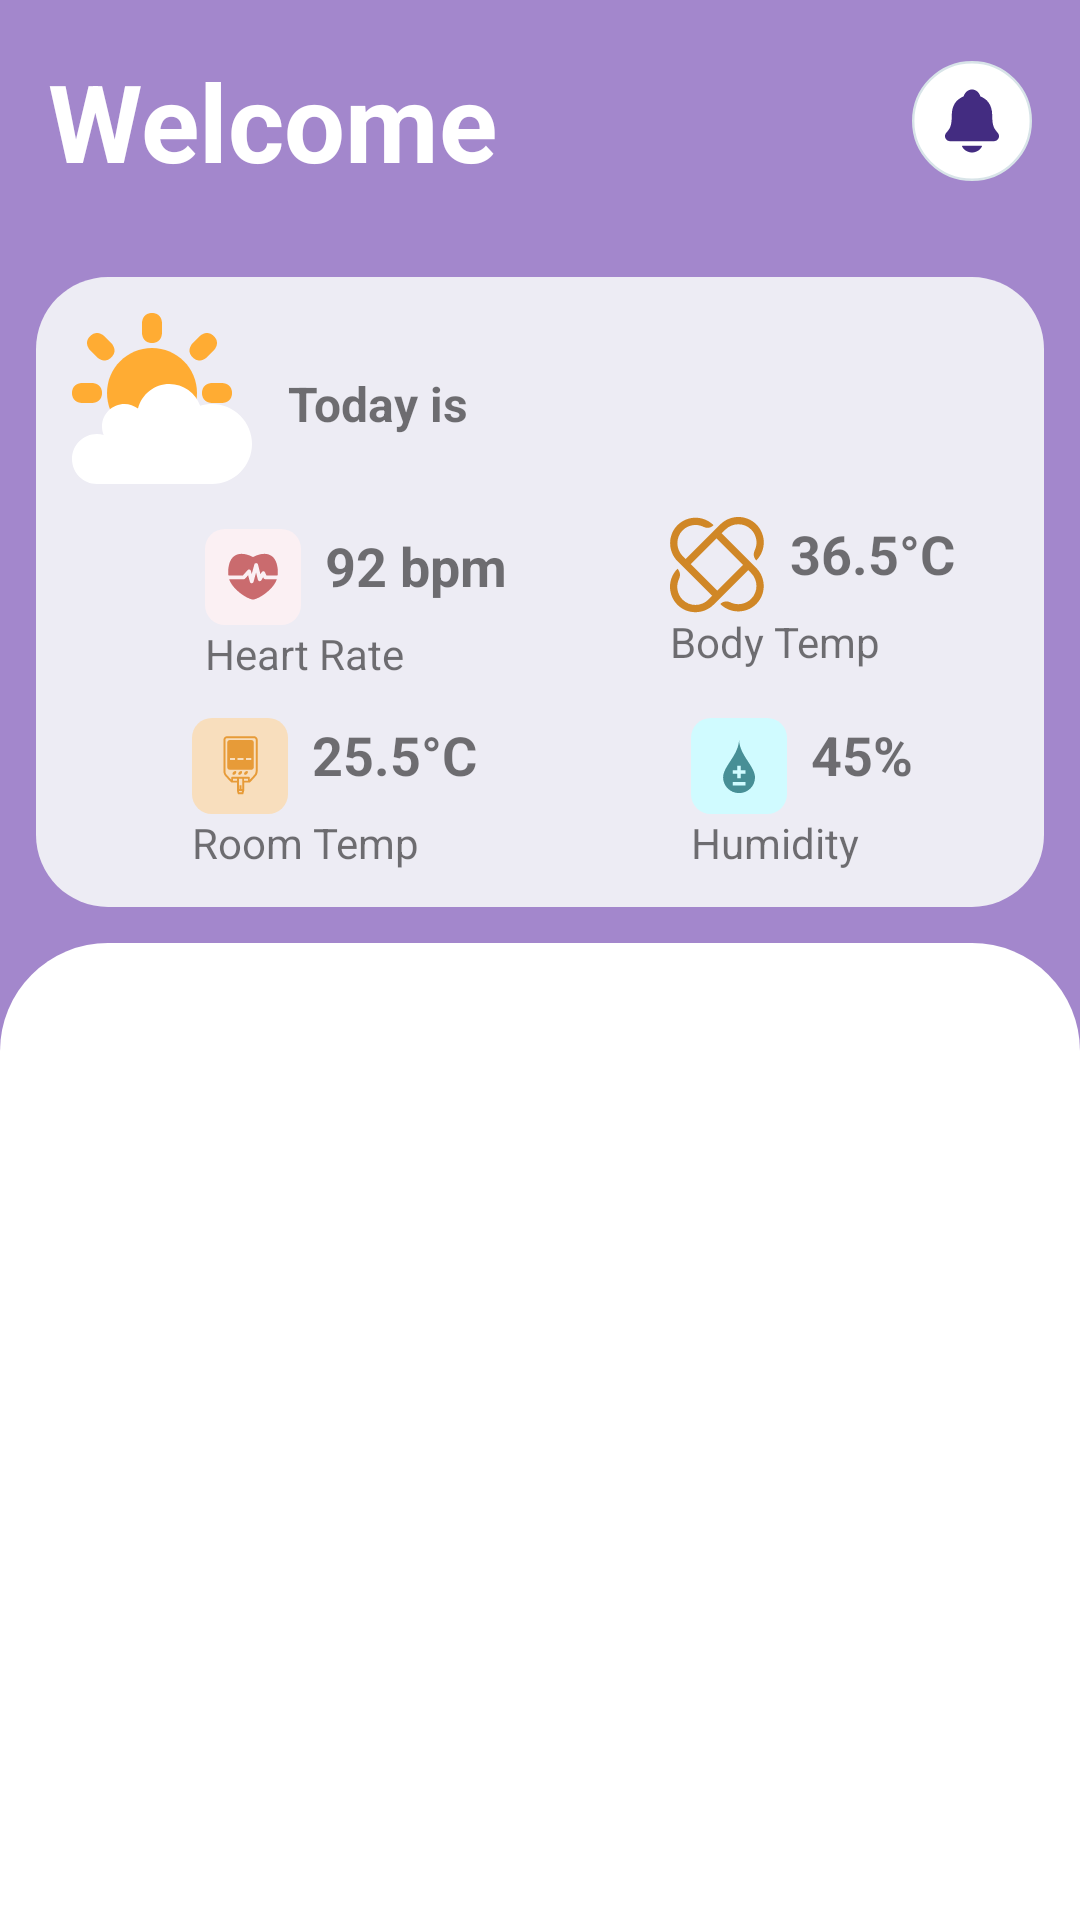

Icons on this 1080x1920 Android screen, each with its box as (x1, y1, x2, y2):
notification: (912, 61, 1032, 181)
sun: (72, 313, 232, 409)
